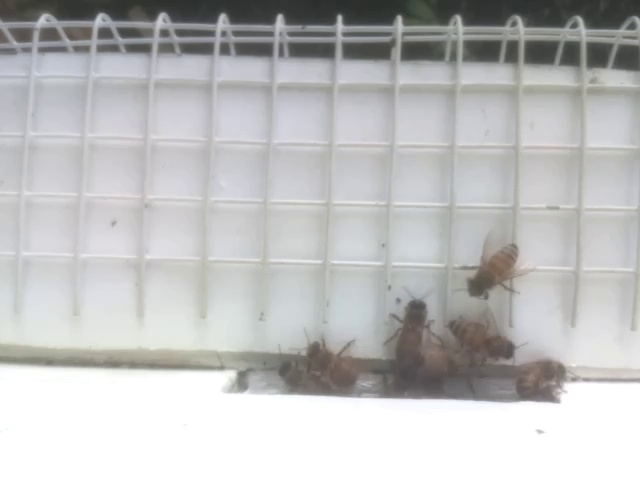bee: (463, 224, 537, 302), (446, 307, 533, 373), (389, 275, 441, 369), (265, 344, 336, 405), (295, 329, 366, 387), (513, 352, 581, 402)
